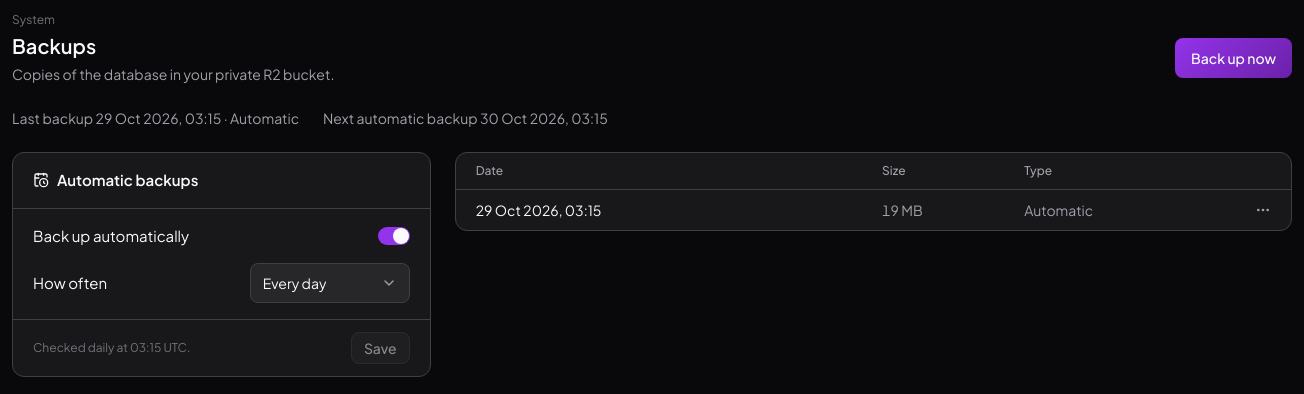
Test case: BackupsPage › starts a backup, and shows it running
Click the button "Back up now" at (1234, 58), box top-left (1175, 38), bottom-right (1292, 78)
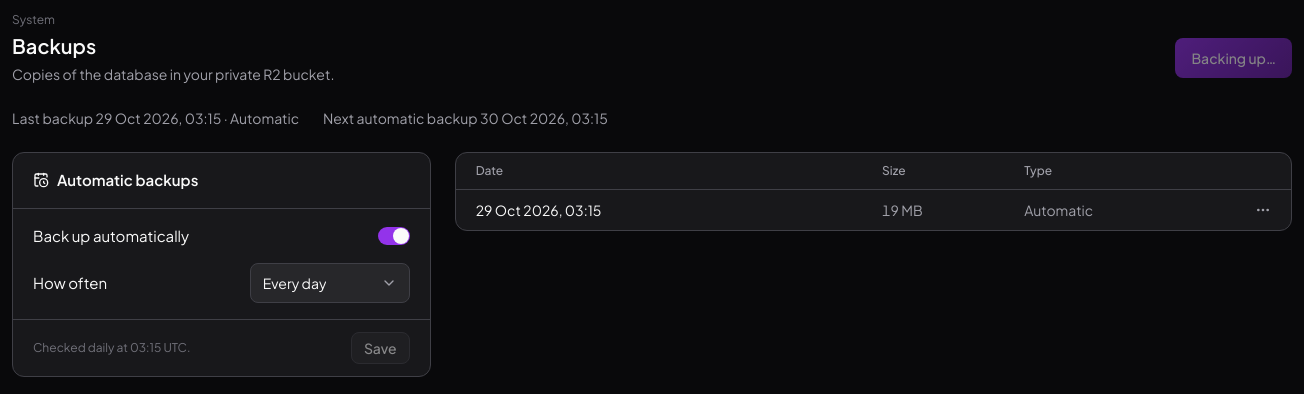
Expected: the button "Backing up…" is disabled, top-left (1175, 38), bottom-right (1292, 78)
